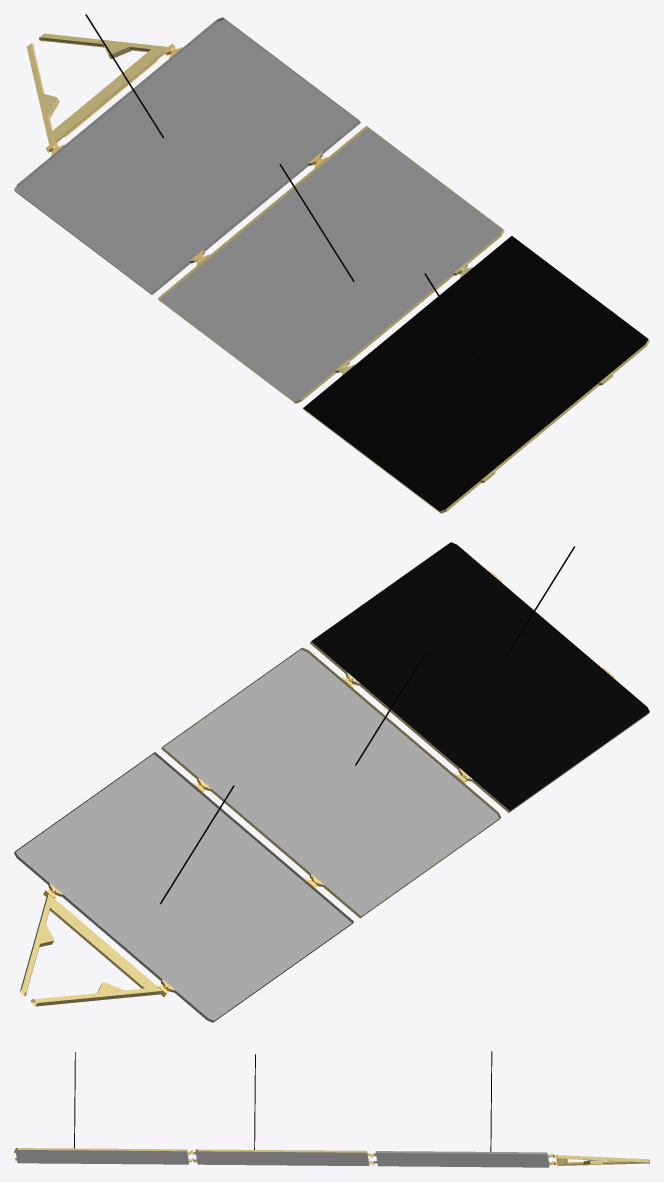
The model's file is right-wing.fbx.
3 renders of one model, top to bottom at view 1: azimuth 30°, elevation 25°; view 2: azimuth 150°, elevation 25°; view 3: azimuth 270°, elevation 25°, orthographic. The views are drawn at different scales.
Parts seen in each view (by area): view 1: entire_spacecraft; view 2: entire_spacecraft; view 3: entire_spacecraft.
Boxes of the visible parts, x1,y1,x2,y2 form: entire_spacecraft: [14, 14, 649, 513]; entire_spacecraft: [14, 542, 649, 1022]; entire_spacecraft: [14, 1051, 649, 1167].
Bounding box in the file's own units: 29.86 × 26.57 × 124.
